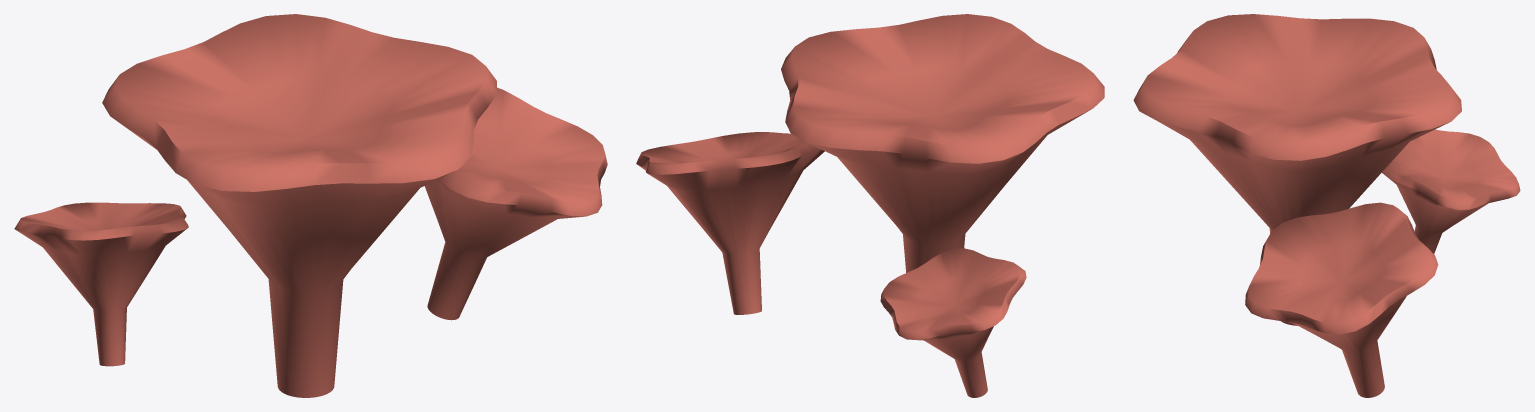
The model's file is food_chanterelle.glb.
The picture shows the model from 3 angles, left to right: view 1: azimuth 30°, elevation 25°; view 2: azimuth 150°, elevation 25°; view 3: azimuth 270°, elevation 25°; orthographic projection. The views are drawn at different scales.
Visible parts, largest first — view 1: PART; view 2: PART; view 3: PART.
Part boxes in pixels (box(x1,y1,x2,y2)): PART: box(14, 14, 607, 397); PART: box(636, 14, 1104, 397); PART: box(1133, 14, 1520, 397).
Size of the model in its own units: 0.1241 by 0.069 by 0.0989.
